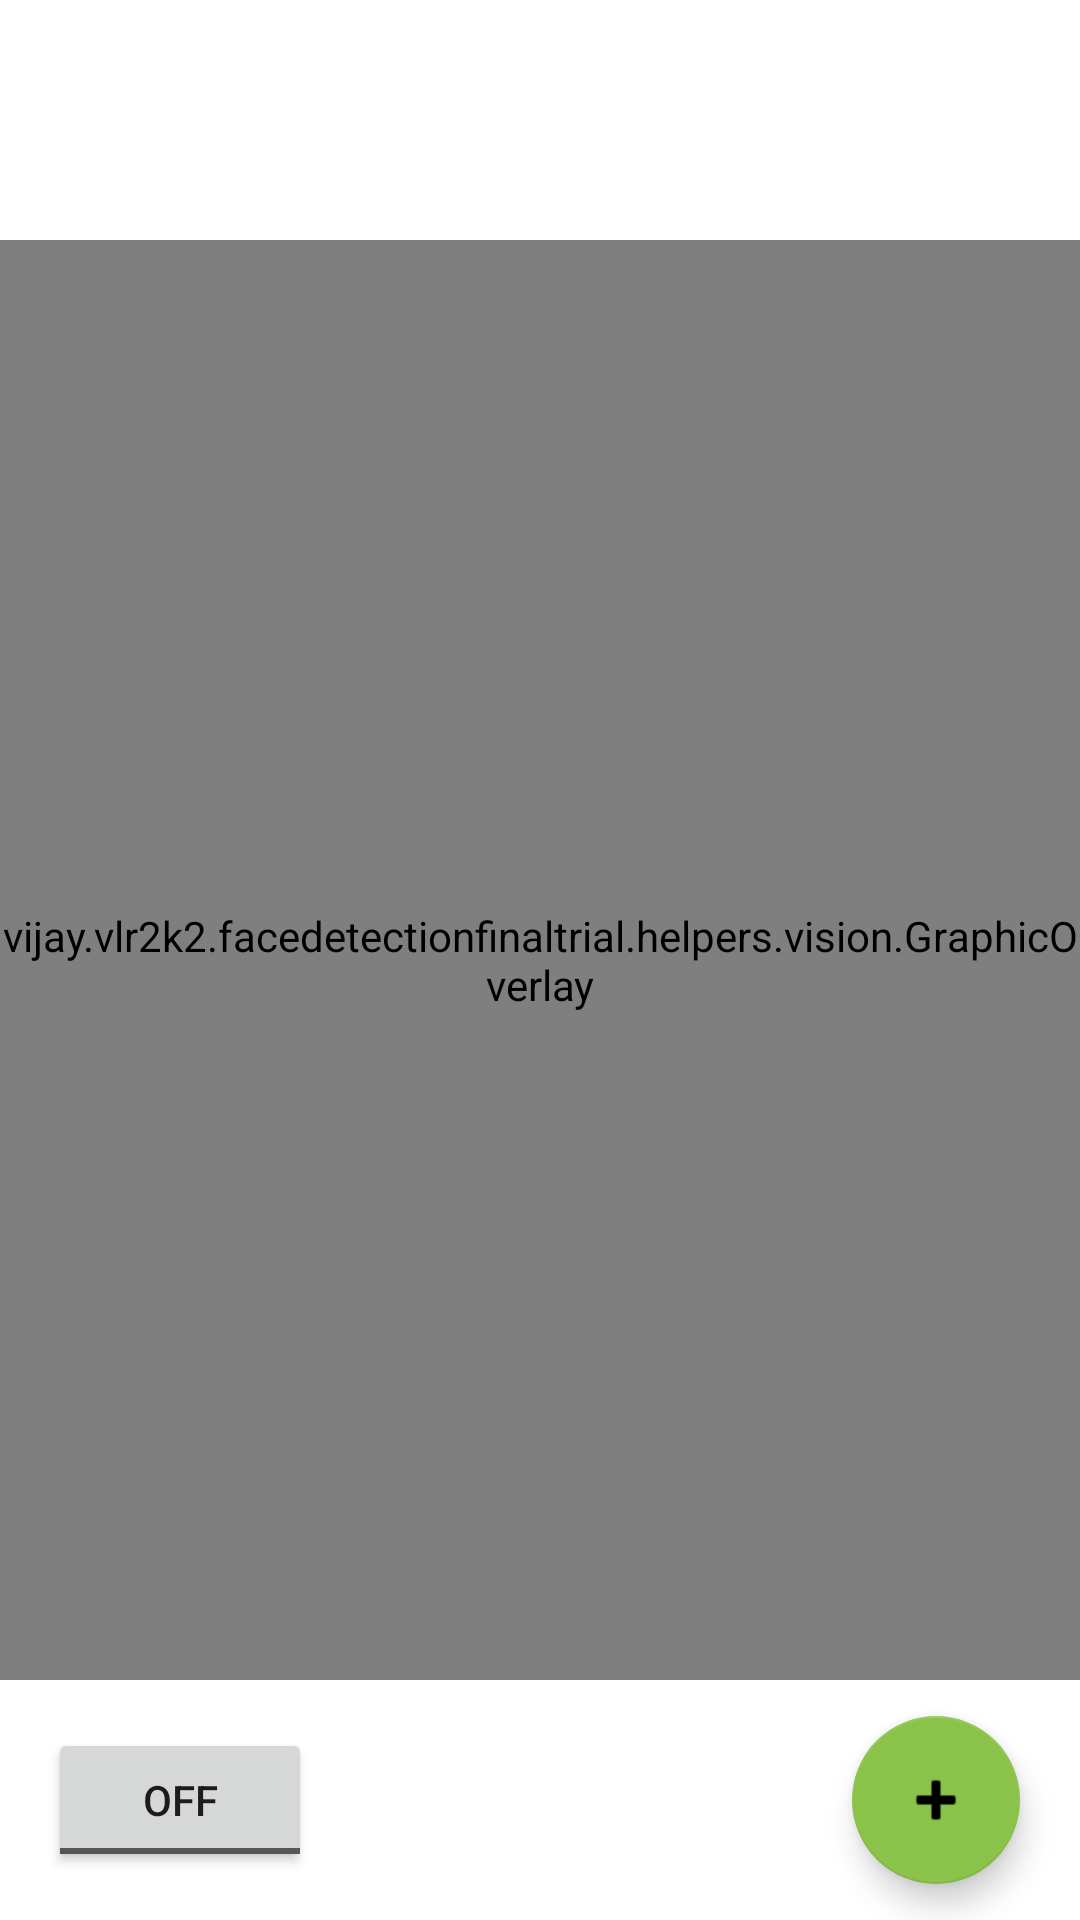

Where icons sit on this 1080x1920 app screen, as [x1=x1, y1=y1, x2=x2, y2=y2]:
add: [x1=852, y1=1716, x2=1020, y2=1884]
